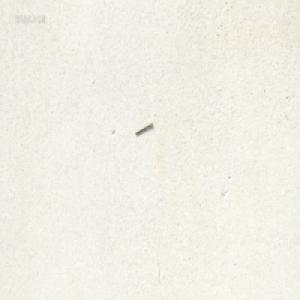Bolt: (134, 120, 152, 135)
